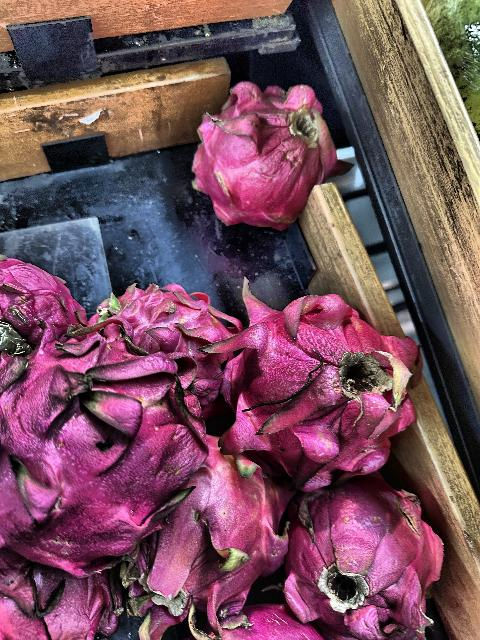buah-naga-matang: (0, 325, 194, 559), (236, 289, 428, 481), (137, 427, 292, 615), (285, 468, 441, 634), (187, 80, 336, 222), (96, 278, 238, 402), (0, 548, 120, 640), (1, 243, 92, 334)
